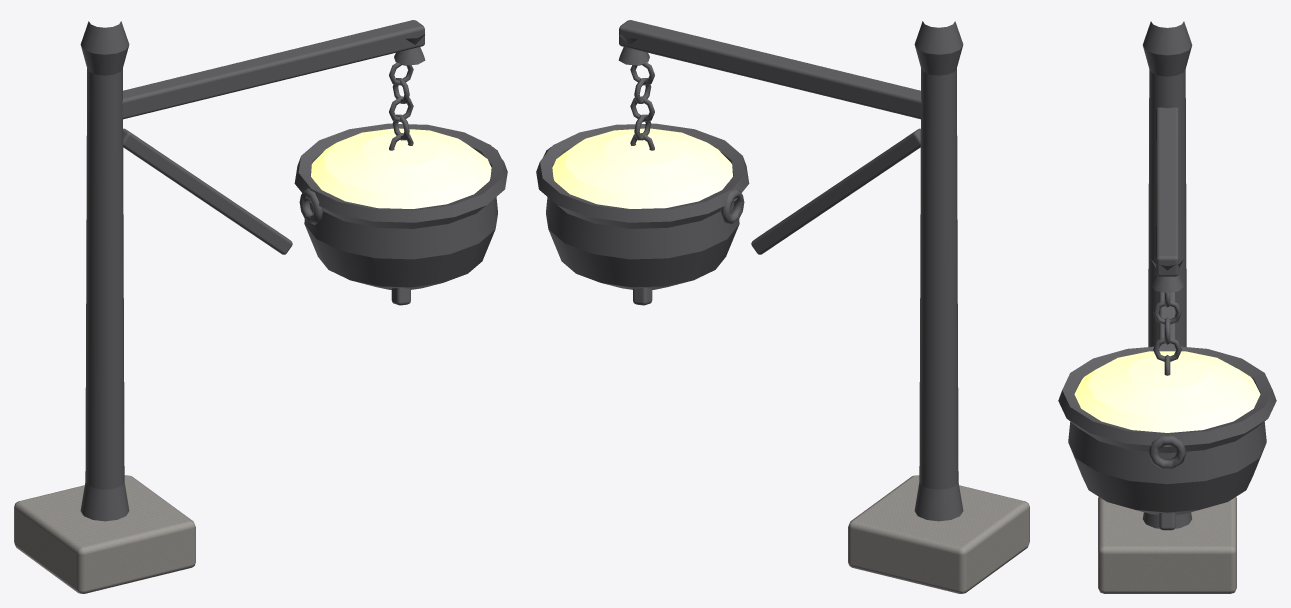
File: witch-cottage-and-apothecary-cauldron-on-hearth-crane-8a2e8ee3__32464.glb
The picture shows the model from 3 angles, left to right: view 1: azimuth 30°, elevation 25°; view 2: azimuth 150°, elevation 25°; view 3: azimuth 270°, elevation 25°; orthographic projection.
Parts seen in each view (by area): view 1: cauldron-on-hearth-crane, crane-arm/iron, crane-arm/wax; view 2: cauldron-on-hearth-crane, crane-arm/iron, crane-arm/wax; view 3: crane-arm/iron, cauldron-on-hearth-crane, crane-arm/wax.
Part boxes in pixels (x1,y1,x2,y2): cauldron-on-hearth-crane: [14, 21, 195, 593]; crane-arm/iron: [122, 20, 507, 305]; crane-arm/wax: [311, 128, 491, 208]; cauldron-on-hearth-crane: [848, 21, 1029, 593]; crane-arm/iron: [536, 20, 921, 305]; crane-arm/wax: [552, 128, 732, 208]; crane-arm/iron: [1058, 107, 1276, 530]; cauldron-on-hearth-crane: [1098, 21, 1236, 593]; crane-arm/wax: [1074, 351, 1260, 432].
Bounding box in the file's own units: 1.59 × 1.82 × 0.6599.
3 materials, 1 textured.
